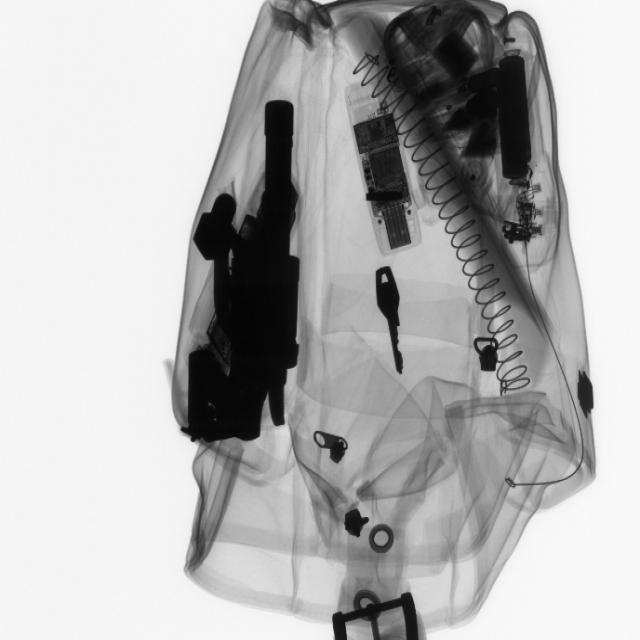GUN: (194, 83, 310, 447)
